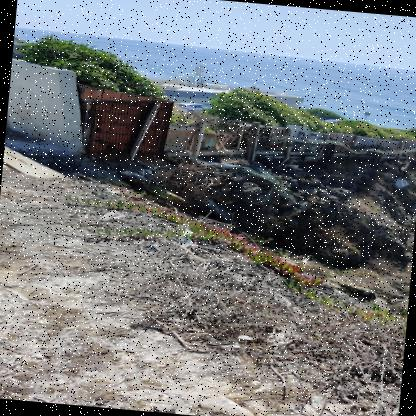Aluminium blister pack: (325, 405, 358, 416)
Disposable plastic cup: (99, 210, 127, 221)
Metal bottle cap: (149, 248, 157, 251)
Unlabeled litter: (312, 392, 333, 408), (178, 229, 195, 245), (208, 342, 241, 347)
